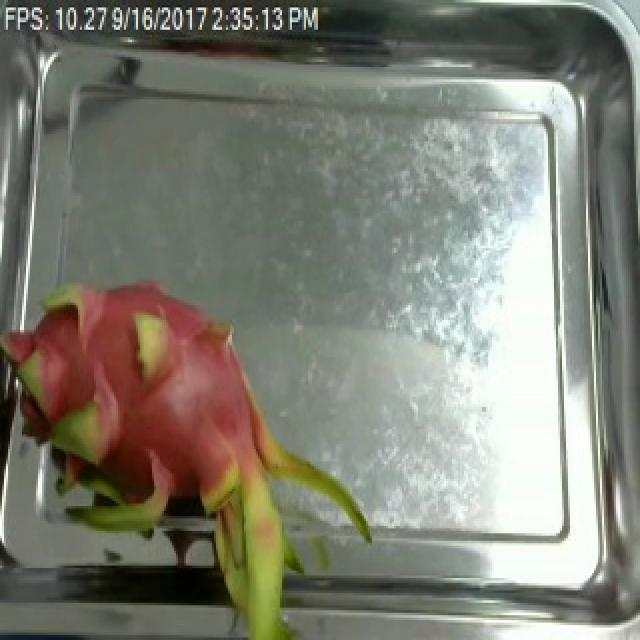fruit: (0, 253, 388, 628)
